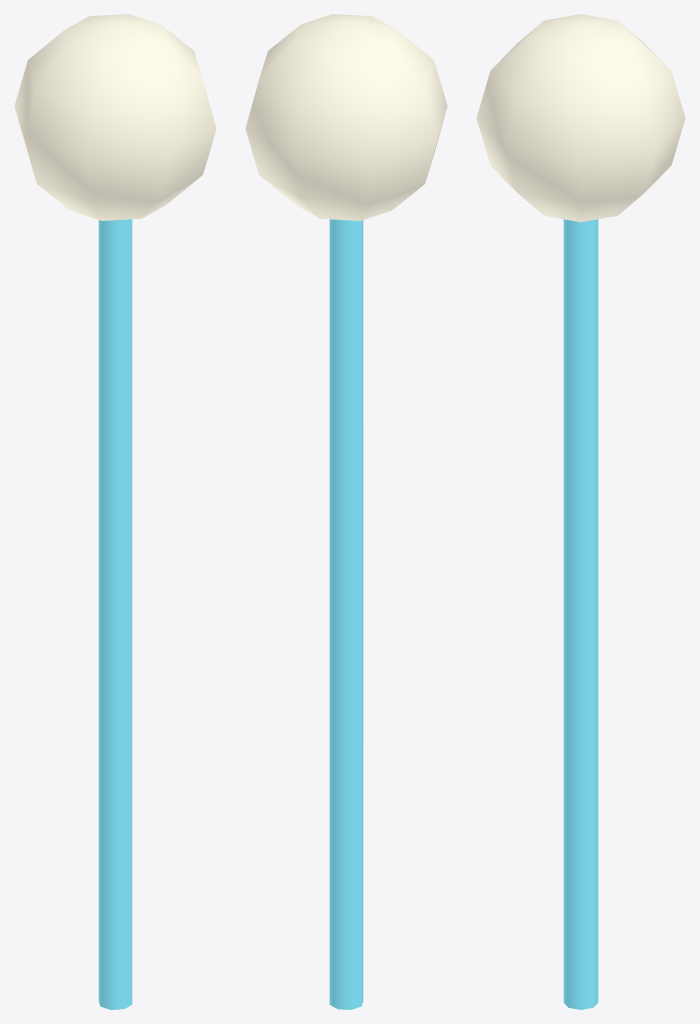
The model's file is star-lamp.glb.
3 views of the same model, side by side, from view 1: azimuth 30°, elevation 25°; view 2: azimuth 150°, elevation 25°; view 3: azimuth 270°, elevation 25° (orthographic).
Parts seen in each view (by area): view 1: cosmic star-lamp; view 2: cosmic star-lamp; view 3: cosmic star-lamp.
Boxes of the visible parts, x1,y1,x2,y2 form: cosmic star-lamp: (14,14,216,1009); cosmic star-lamp: (245,14,447,1009); cosmic star-lamp: (476,14,685,1009).
Bounding box in the file's own units: 0.6 × 3.1 × 0.6.
